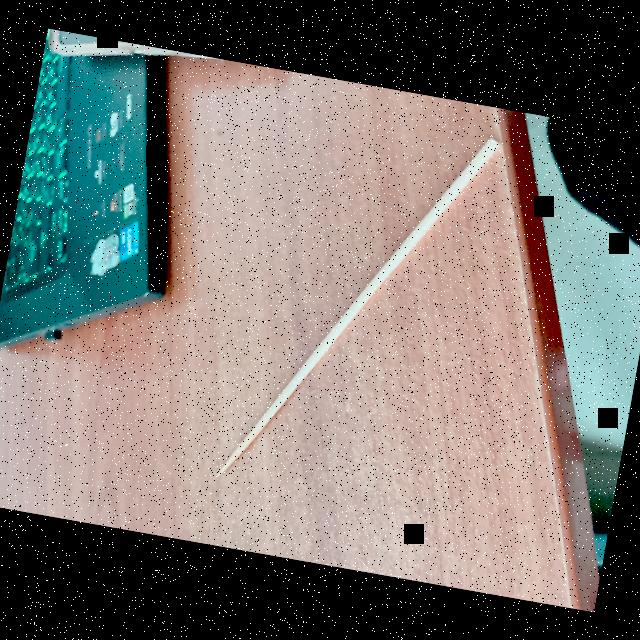stick: (199, 88, 509, 534)
